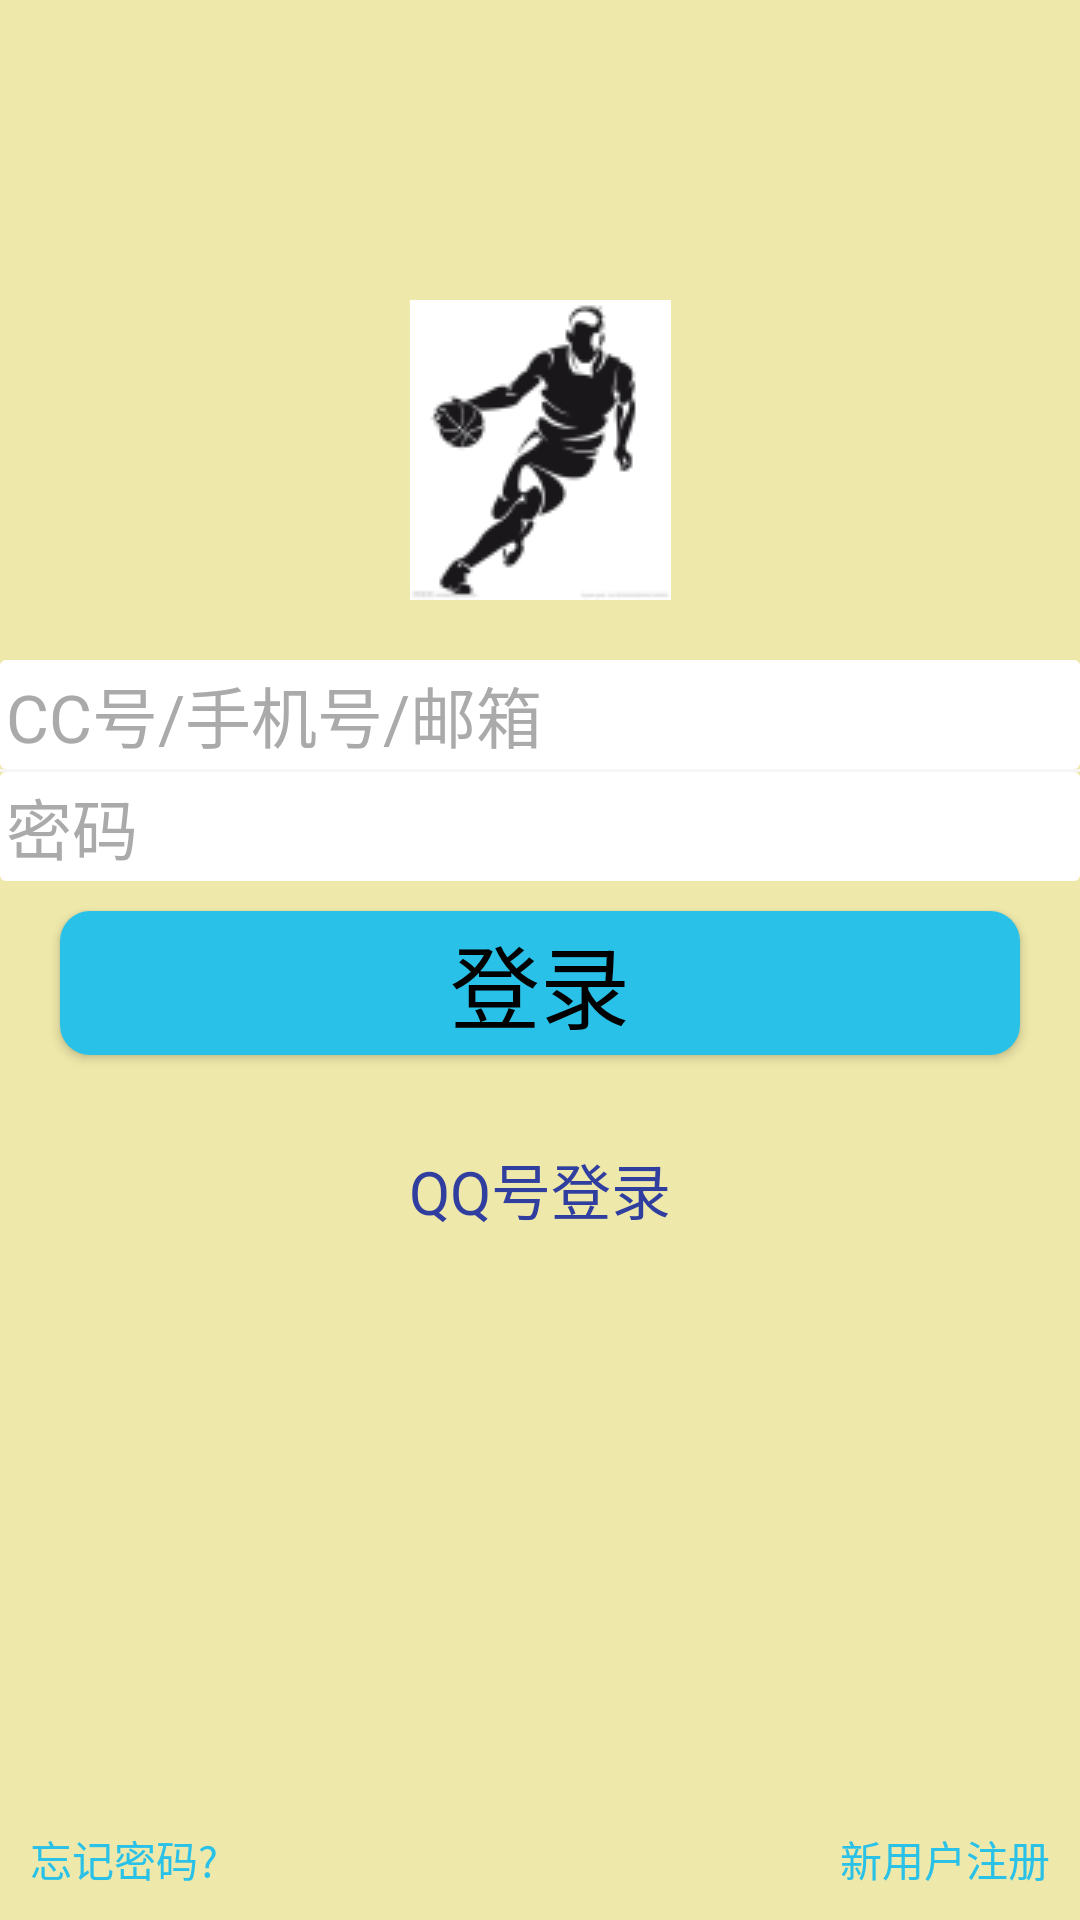

Where to tap for icons on this 1080*1920 app screen, as (x=x, y=y):
head portrait: (x=540, y=450)
